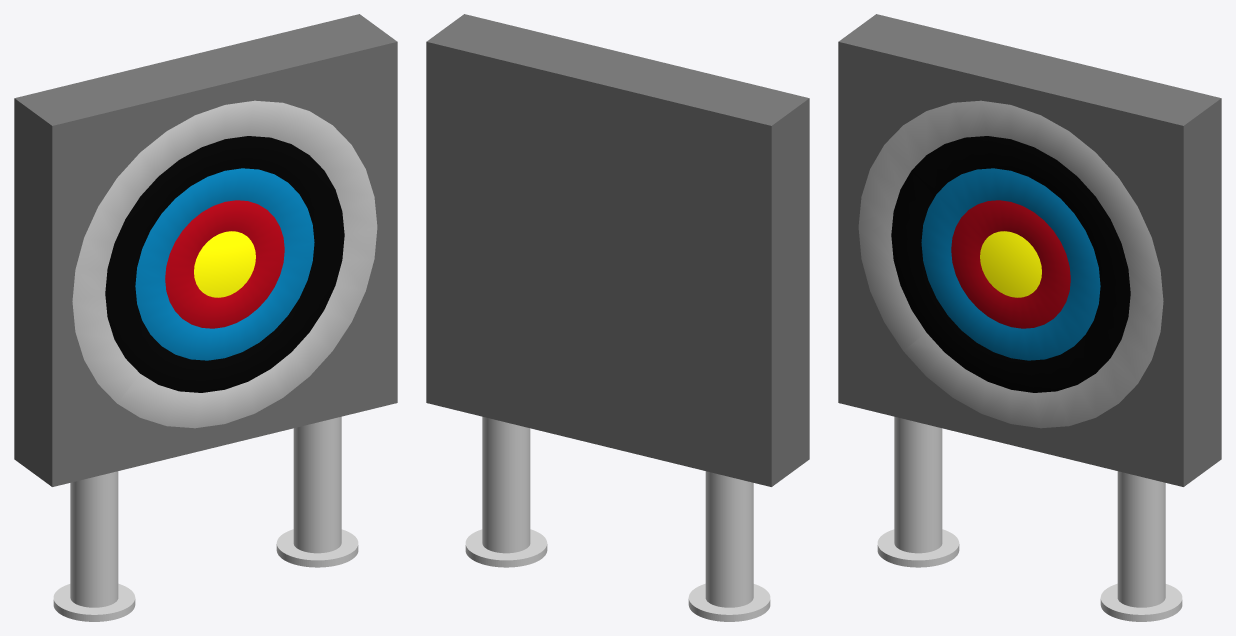
File: Alvo2.0.fbx
3 views of the same model, side by side, from view 1: azimuth 30°, elevation 25°; view 2: azimuth 150°, elevation 25°; view 3: azimuth 330°, elevation 25° (orthographic).
Parts seen in each view (by area): view 1: Quadro, White(Borda), Black, Pé de Apoio, Blue, Red, Yellow(Center; view 2: Quadro, Pé de Apoio; view 3: Quadro, White(Borda), Black, Pé de Apoio, Blue, Red, Yellow(Center.
Boxes of the visible parts, x1,y1,x2,y2 form: Quadro: (14,14,397,486); White(Borda): (72,100,377,428); Black: (105,136,344,392); Pé de Apoio: (53,416,358,621); Blue: (135,168,314,360); Red: (165,200,284,328); Yellow(Center: (194,231,255,297); Quadro: (426,14,809,486); Pé de Apoio: (465,416,770,621); Quadro: (838,14,1221,486); White(Borda): (858,100,1163,428); Black: (891,136,1130,392); Pé de Apoio: (877,416,1182,621); Blue: (921,168,1100,360); Red: (951,200,1070,328); Yellow(Center: (980,231,1041,297).
Size of the model in its own units: 464 by 652 by 95.03.
